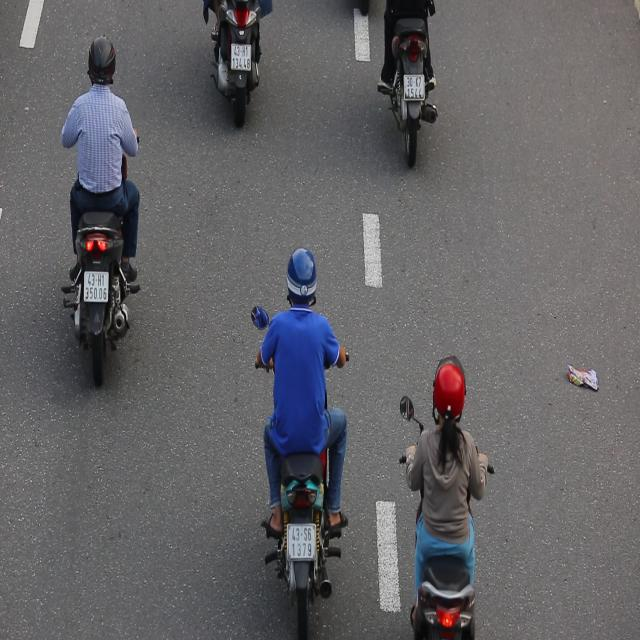motorbike: (244, 241, 354, 640), (56, 27, 144, 394)
